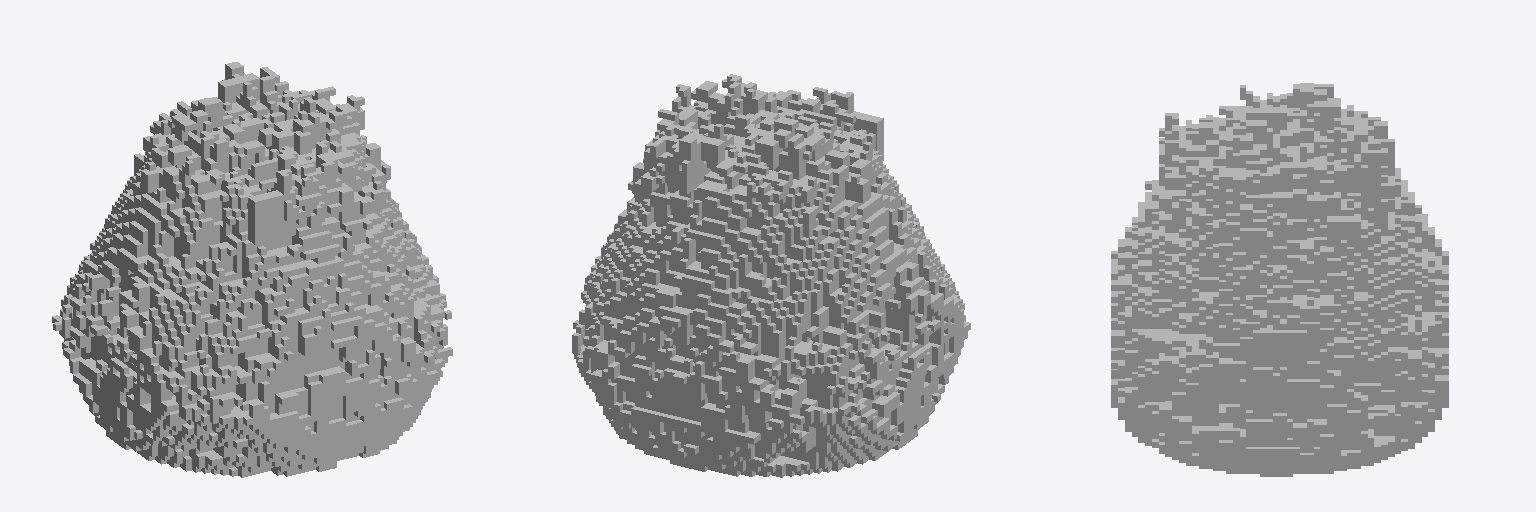
The model's file is rocher 3.obj.
The picture shows the model from 3 angles: view 1: azimuth 30°, elevation 25°; view 2: azimuth 150°, elevation 25°; view 3: azimuth 270°, elevation 25°; orthographic projection.
Visible parts, largest first — view 1: object 1; view 2: object 1; view 3: object 1.
Part boxes in pixels (bbox=[...]): object 1: bbox=[52, 62, 452, 477]; object 1: bbox=[572, 74, 970, 477]; object 1: bbox=[1111, 83, 1448, 476].
Bounding box in the file's own units: 5 × 5 × 5.